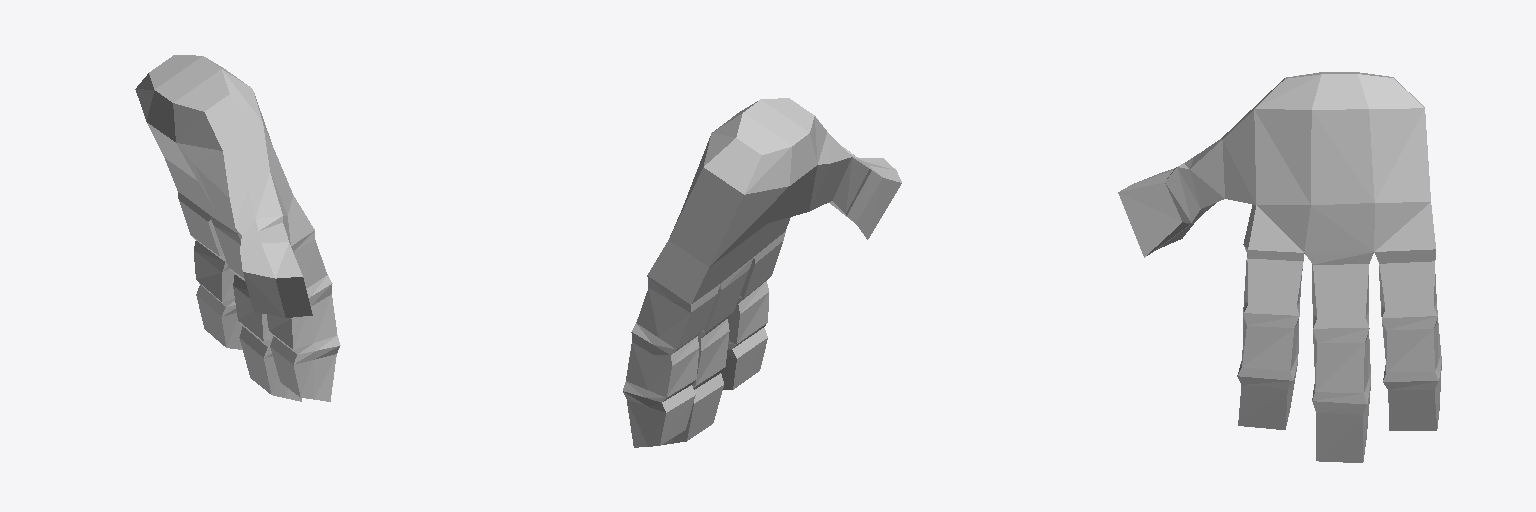
The model's file is Left-Hand.obj.
The picture shows the model from 3 angles: view 1: azimuth 30°, elevation 25°; view 2: azimuth 150°, elevation 25°; view 3: azimuth 270°, elevation 25°; orthographic projection.
Parts seen in each view (by area): view 1: Left-Hand_R02.002; view 2: Left-Hand_R02.002; view 3: Left-Hand_R02.002.
Boxes of the visible parts, <box> form: Left-Hand_R02.002: <box>135,55,340,401</box>; Left-Hand_R02.002: <box>623,98,901,447</box>; Left-Hand_R02.002: <box>1118,72,1441,462</box>.
Bounding box in the file's own units: 0.9716 × 2.21 × 1.85.